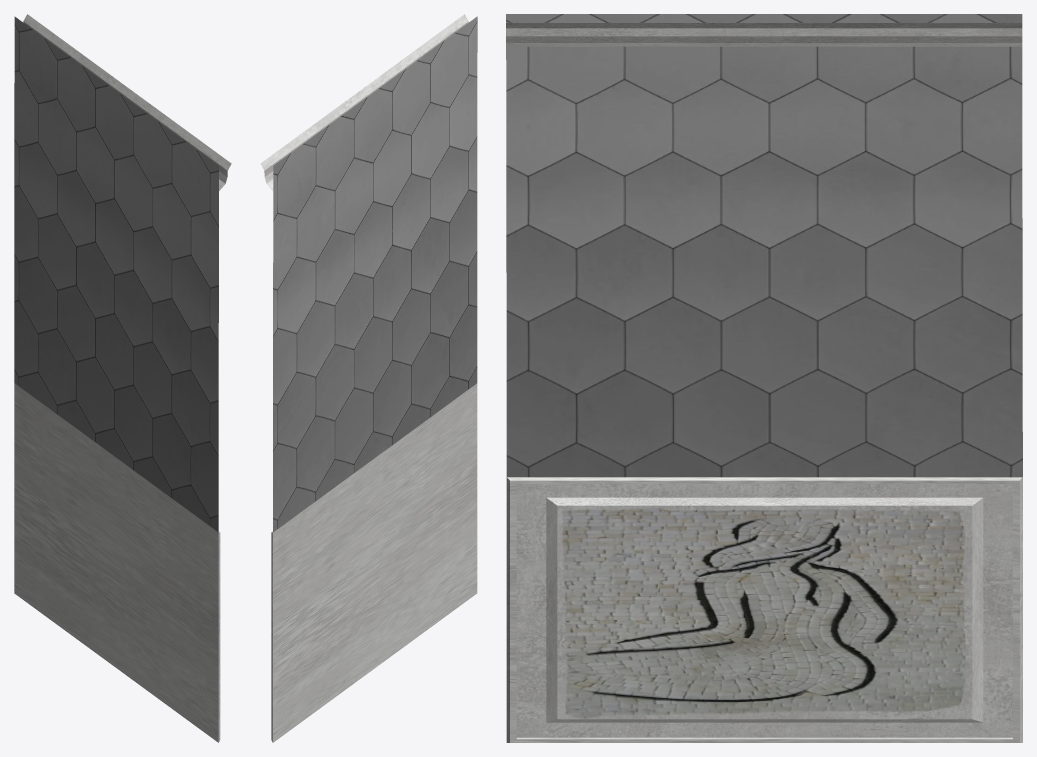
Rendered from tier-2.fbx.
The picture shows the model from 3 angles, left to right: view 1: azimuth 30°, elevation 25°; view 2: azimuth 150°, elevation 25°; view 3: azimuth 270°, elevation 25°; orthographic projection. The views are drawn at different scales.
Visible parts, largest first — view 1: tier-2; view 2: tier-2; view 3: tier-2.
Part boxes in pixels (box(x1,y1,x2,y2)): tier-2: box(14, 14, 231, 742); tier-2: box(260, 14, 477, 742); tier-2: box(506, 14, 1022, 742).
Size of the model in its own units: 28.15 by 1215 by 781.
1 material, 1 textured.
